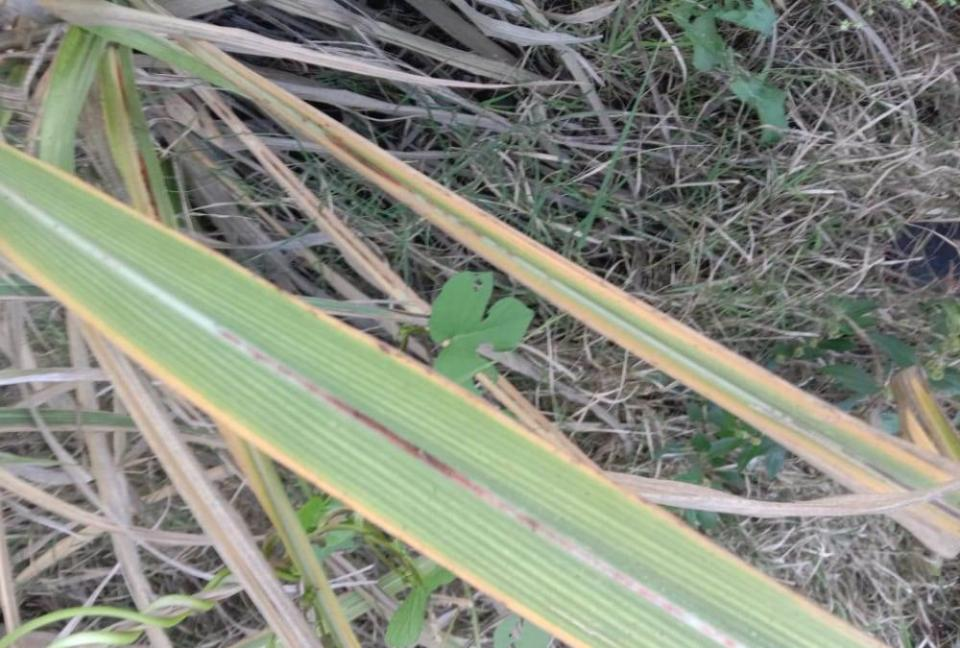RedRot: (217, 328, 740, 647), (324, 134, 414, 193), (139, 150, 162, 223), (117, 62, 130, 115)
